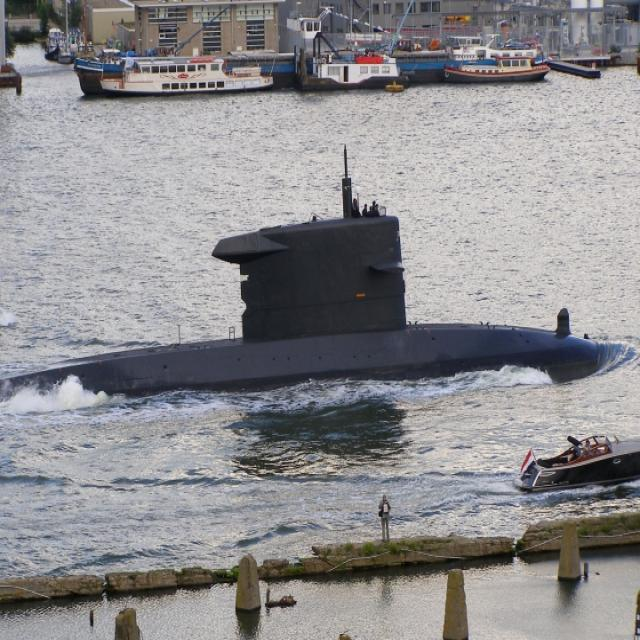submarine: (1, 205, 639, 407)
